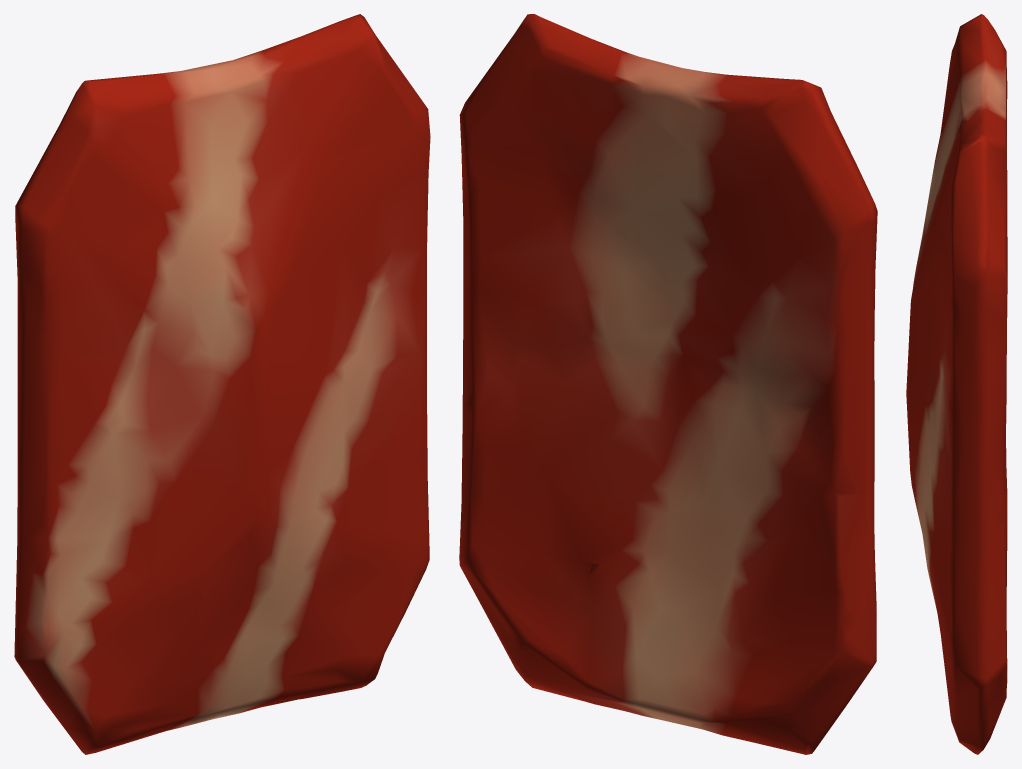
File: gen3d-bacon-lod0.glb
3 renders of one model, left to right at view 1: azimuth 30°, elevation 25°; view 2: azimuth 150°, elevation 25°; view 3: azimuth 270°, elevation 25°, orthographic. The views are drawn at different scales.
Parts seen in each view (by area): view 1: part_0; view 2: part_0; view 3: part_0.
Boxes of the visible parts, x1,y1,x2,y2 form: part_0: (14,14,430,754); part_0: (459,14,877,754); part_0: (906,14,1007,754).
Bounding box in the file's own units: 0.6395 × 0.9991 × 0.1487.
